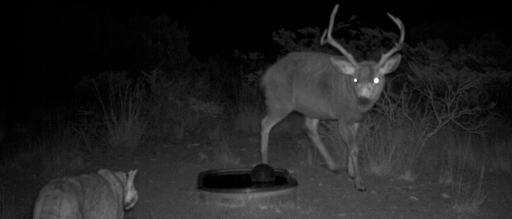bobcat: (17, 158, 156, 219)
deer: (230, 7, 425, 188)
